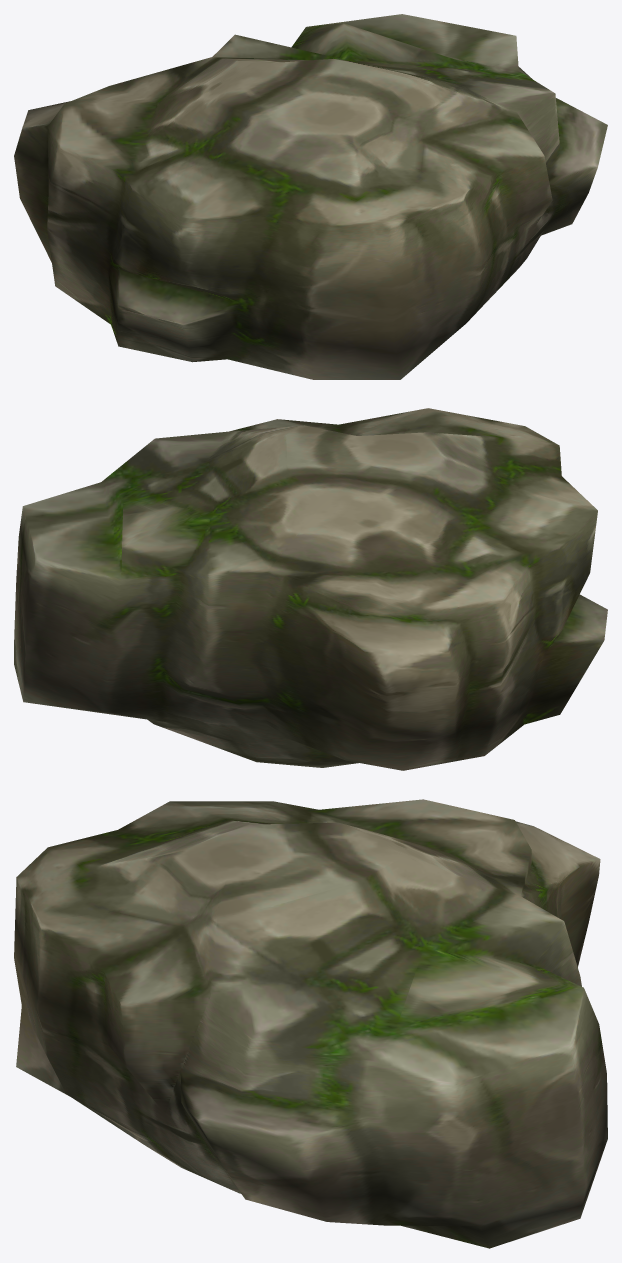
File: RockFormation_4_2 (53).fbx
3 renders of one model, top to bottom at view 1: azimuth 30°, elevation 25°; view 2: azimuth 150°, elevation 25°; view 3: azimuth 270°, elevation 25°, orthographic. The views are drawn at different scales.
Visible parts, largest first — view 1: RockFormation_4_2 (53); view 2: RockFormation_4_2 (53); view 3: RockFormation_4_2 (53).
Part boxes in pixels (x1=…): RockFormation_4_2 (53): x1=14, y1=14, x2=607, y2=379; RockFormation_4_2 (53): x1=14, y1=408, x2=607, y2=770; RockFormation_4_2 (53): x1=14, y1=799, x2=607, y2=1248.
Bounding box in the file's own units: 260 × 127 × 223.
